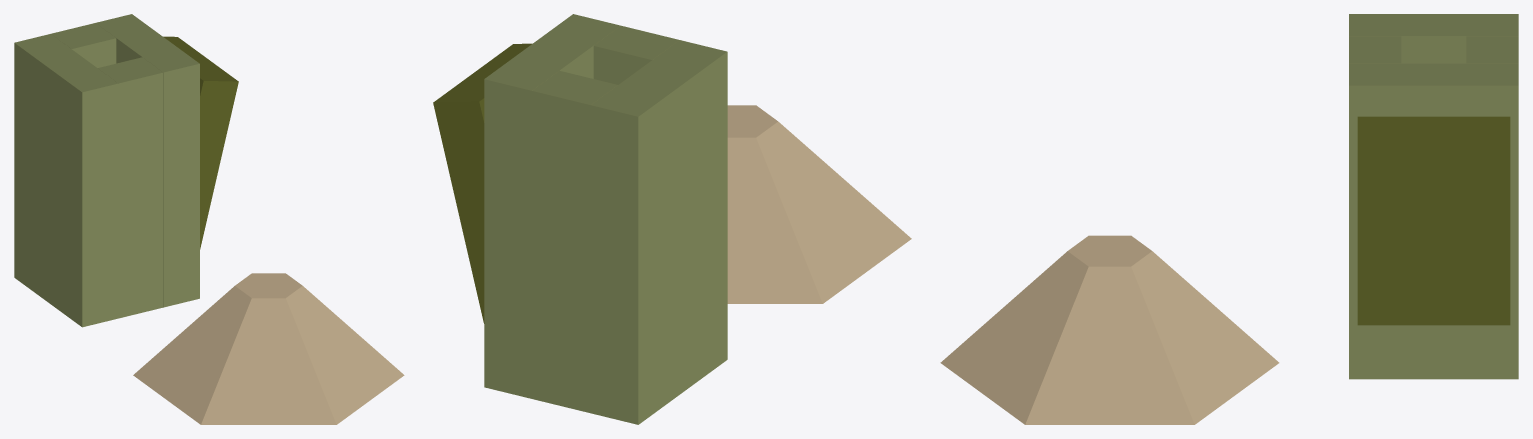
File: SM_ObraHescoAbierto_v3_10m_LOD1.fbx
3 renders of one model, left to right at view 1: azimuth 30°, elevation 25°; view 2: azimuth 150°, elevation 25°; view 3: azimuth 270°, elevation 25°, orthographic. The views are drawn at different scales.
Parts seen in each view (by area): view 1: SM_obra_curso_v27_LOD1; view 2: SM_obra_curso_v27_LOD1; view 3: SM_obra_curso_v27_LOD1.
Part boxes in pixels (x1,y1,x2,y2): SM_obra_curso_v27_LOD1: (14, 14, 404, 424); SM_obra_curso_v27_LOD1: (433, 14, 911, 424); SM_obra_curso_v27_LOD1: (940, 14, 1518, 424).
Bounding box in the file's own units: 1.91 × 2.1 × 3.75.
